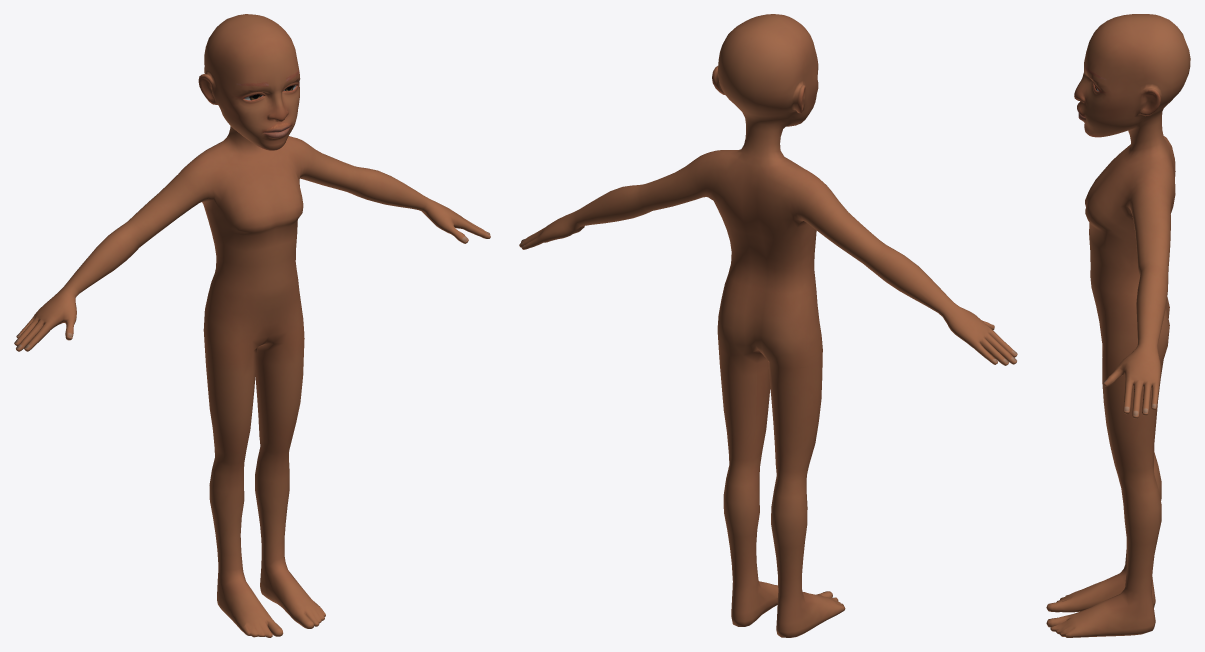
The model's file is frame_0006.glb.
3 renders of one model, left to right at view 1: azimuth 30°, elevation 25°; view 2: azimuth 150°, elevation 25°; view 3: azimuth 270°, elevation 25°, orthographic. The views are drawn at different scales.
Parts seen in each view (by area): view 1: frame_0006_head_geo; view 2: frame_0006_head_geo; view 3: frame_0006_head_geo.
Part boxes in pixels (bbox=[...]): frame_0006_head_geo: bbox=[14, 14, 490, 637]; frame_0006_head_geo: bbox=[519, 14, 1017, 637]; frame_0006_head_geo: bbox=[1046, 14, 1190, 637].
Size of the model in its own units: 1.28 by 1.5 by 0.3253.
Materials: 3 (3 with a texture image).
